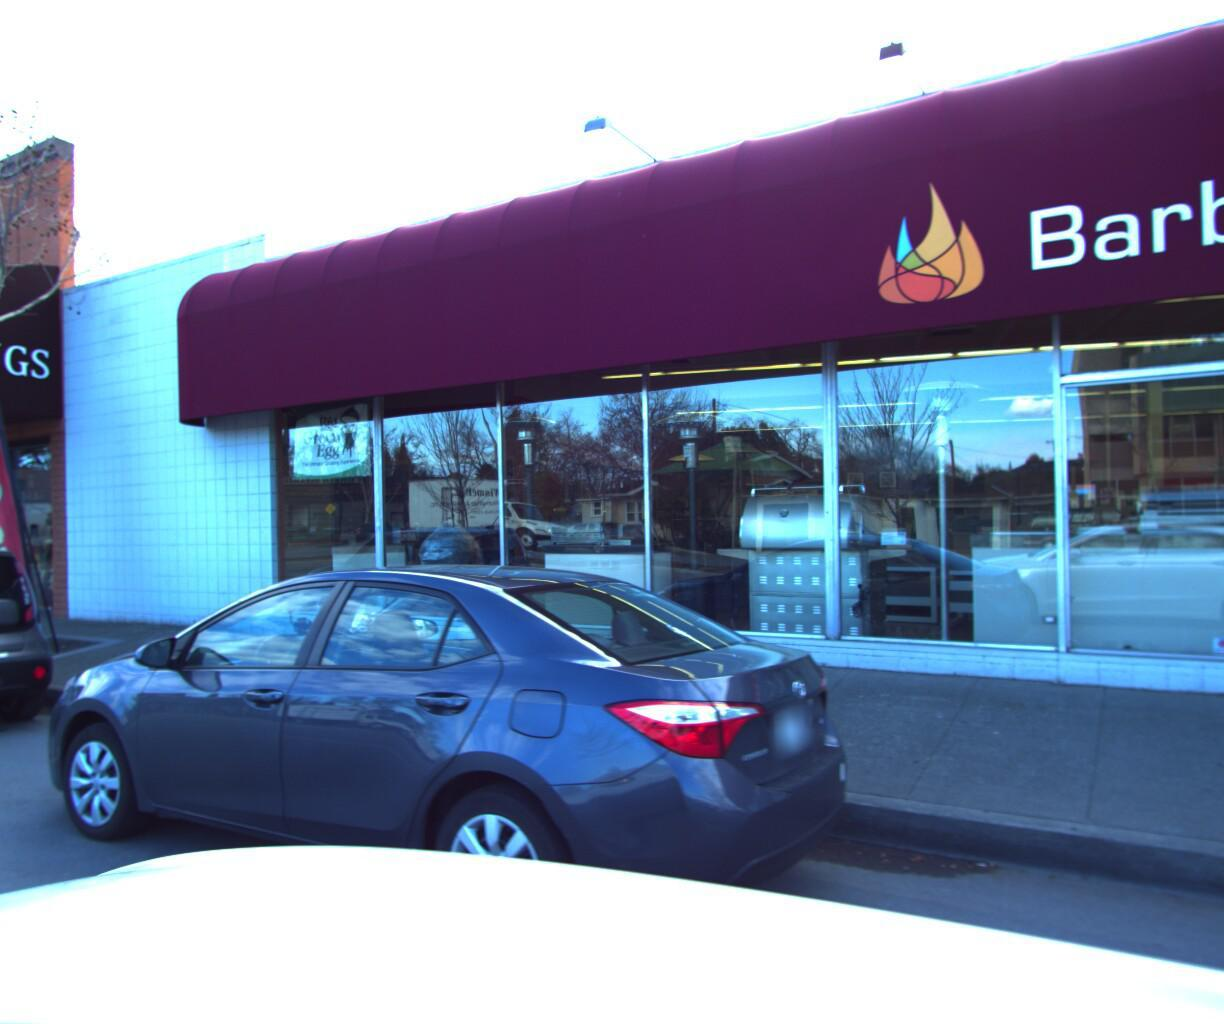car: (0, 547, 896, 1024), (0, 530, 74, 775)
